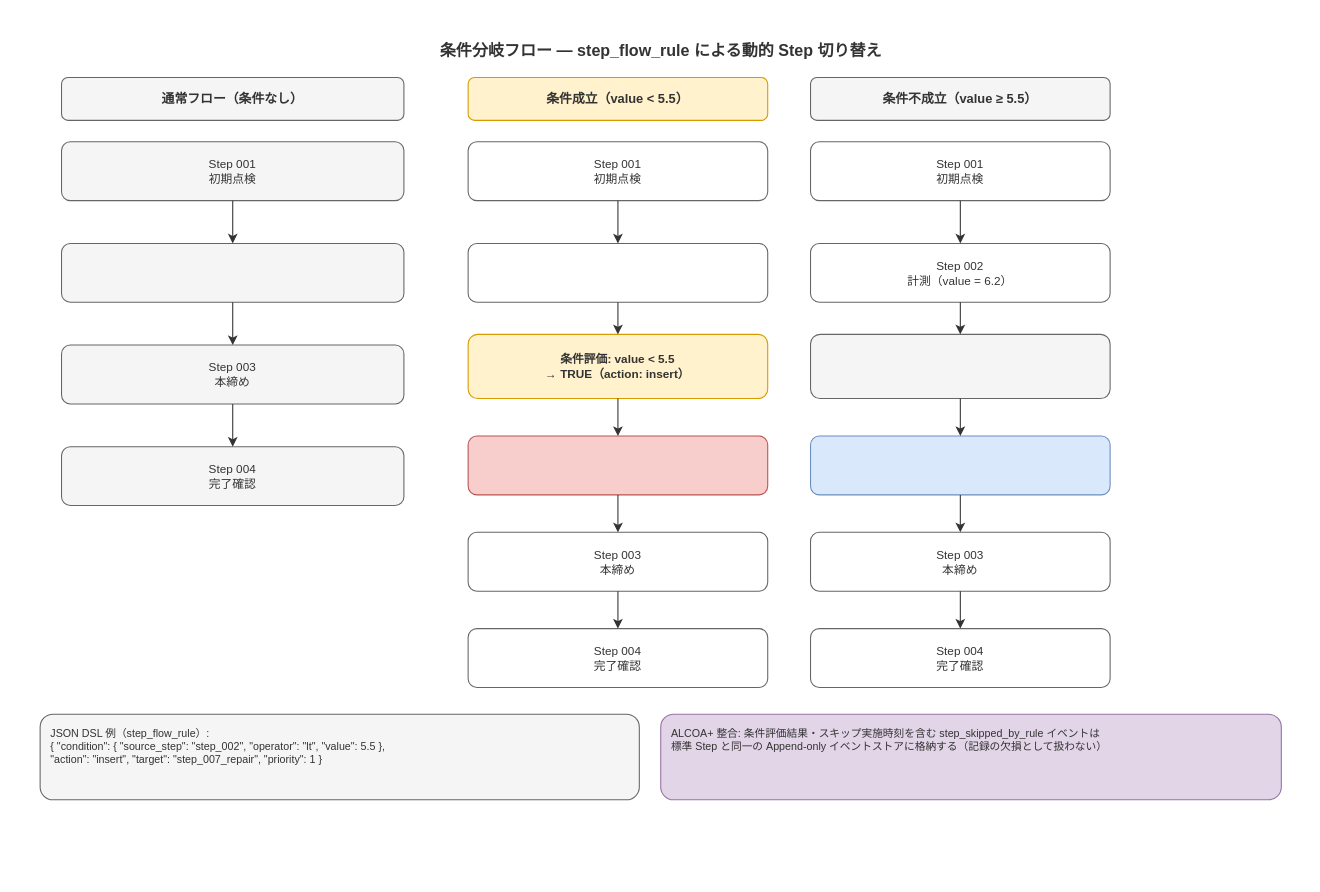
The diagram is 1320 pixels wide and 892 high, and some of its shapes have lost their labels. The shapes that lost their labels are listed below. From the top down, each one's centre as x and y in pixels, then its label:
(x=232, y=272): Step 002 計測（数値入力）
(x=617, y=272): Step 002 計測（value = 4.8）
(x=959, y=366): 条件評価: value < 5.5 → FALSE（action: skip）
(x=617, y=465): Step 007 補修作業 （step_flow_rule で挿入）
(x=959, y=465): step_skipped_by_rule イベント記録（Append-only）
